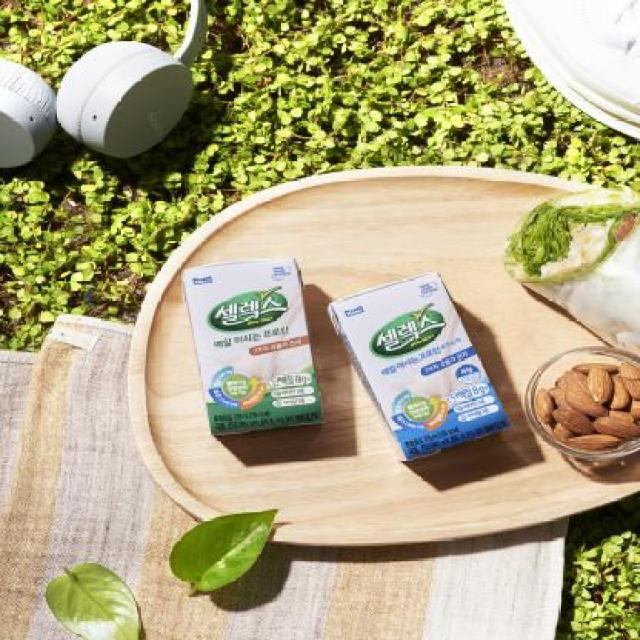tetra: (321, 241, 528, 490), (176, 230, 330, 462)
